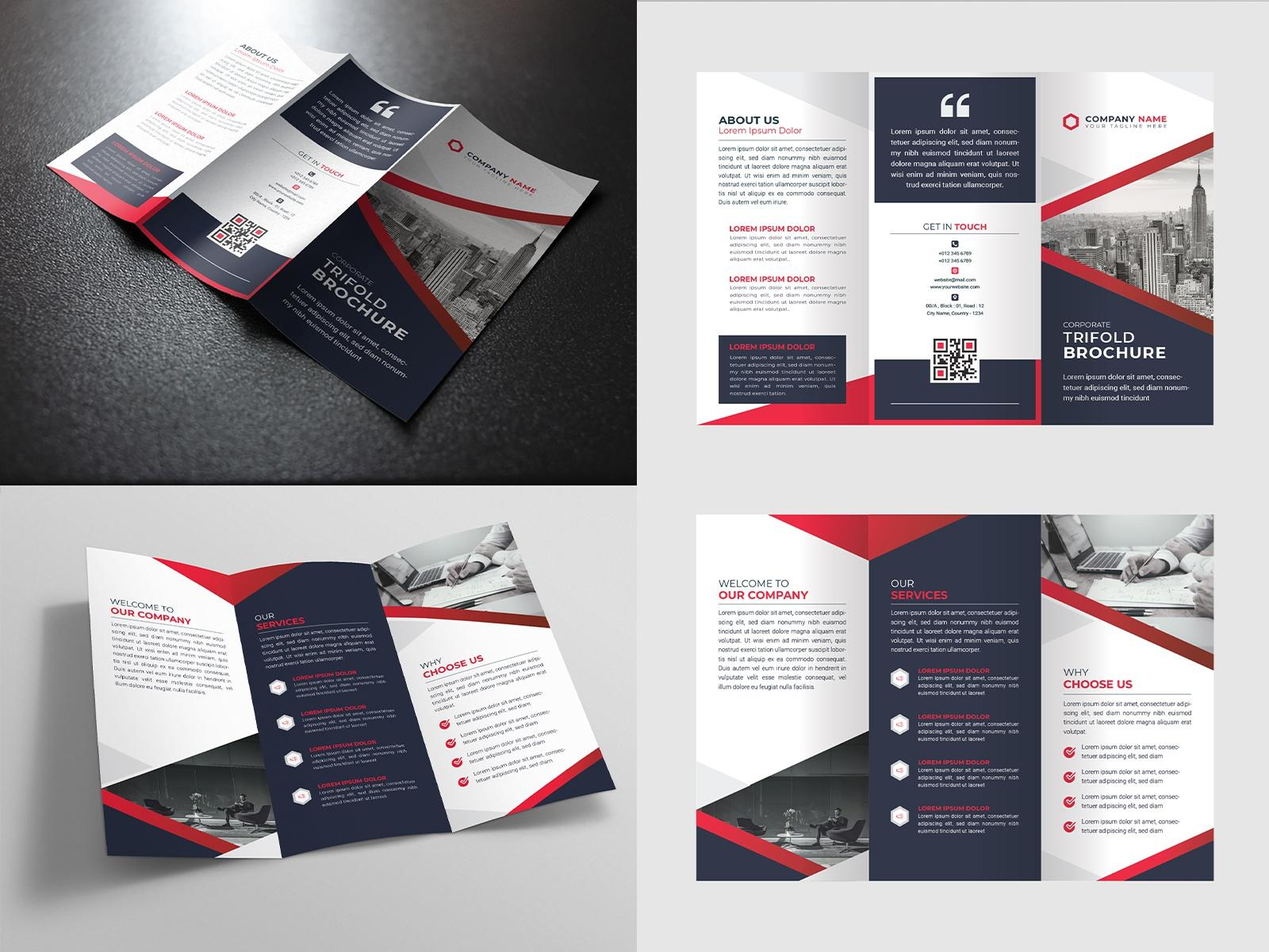paper: (695, 507, 1222, 883), (56, 34, 587, 407), (696, 70, 1220, 428), (88, 518, 613, 859)
